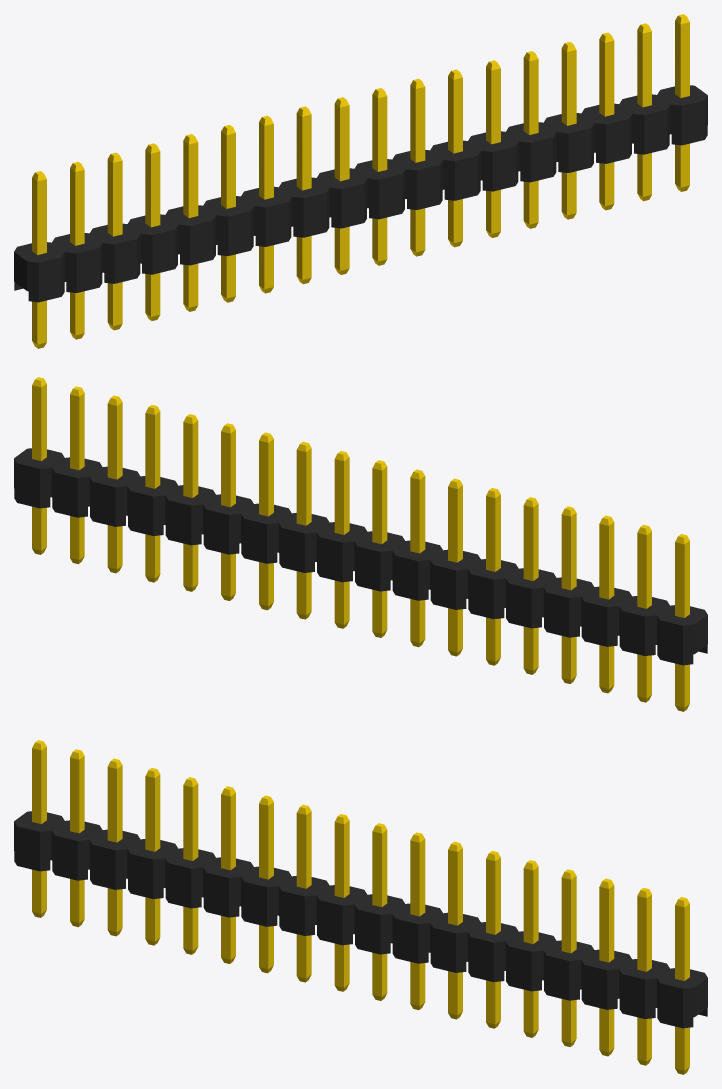
The model's file is PLS2-18.glb.
The picture shows the model from 3 angles, top to bottom: view 1: azimuth 30°, elevation 25°; view 2: azimuth 150°, elevation 25°; view 3: azimuth 330°, elevation 25°; orthographic projection.
Parts seen in each view (by area): view 1: PLS2 (DS1025-01 CONNFLY); view 2: PLS2 (DS1025-01 CONNFLY); view 3: PLS2 (DS1025-01 CONNFLY).
Boxes of the visible parts, x1=… form: PLS2 (DS1025-01 CONNFLY): x1=14, y1=14, x2=707, y2=348; PLS2 (DS1025-01 CONNFLY): x1=14, y1=377, x2=707, y2=711; PLS2 (DS1025-01 CONNFLY): x1=14, y1=740, x2=707, y2=1074.
Bounding box in the file's own units: 0.036 × 0.0088 × 0.002.
